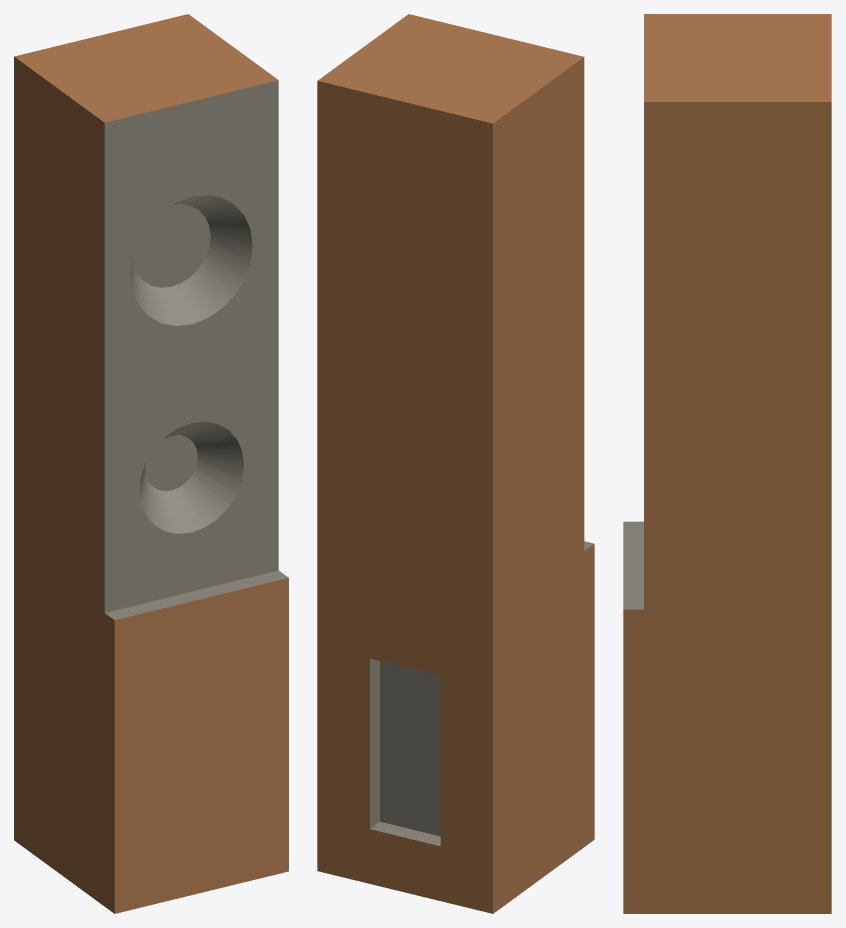
The model's file is speaker.glb.
The picture shows the model from 3 angles, left to right: view 1: azimuth 30°, elevation 25°; view 2: azimuth 150°, elevation 25°; view 3: azimuth 270°, elevation 25°; orthographic projection. The views are drawn at different scales.
Parts seen in each view (by area): view 1: Mesh_speaker, Mesh_speaker_1; view 2: Mesh_speaker, Mesh_speaker_1; view 3: Mesh_speaker, Mesh_speaker_1.
Boxes of the visible parts, left/top/right/bottom form: Mesh_speaker: left=14, top=14, right=288, bottom=913; Mesh_speaker_1: left=104, top=80, right=288, bottom=620; Mesh_speaker: left=317, top=14, right=594, bottom=913; Mesh_speaker_1: left=370, top=541, right=593, bottom=846; Mesh_speaker: left=623, top=14, right=831, bottom=913; Mesh_speaker_1: left=623, top=521, right=643, bottom=609.
Bounding box in the file's own units: 0.296 × 1.27 × 0.296.
